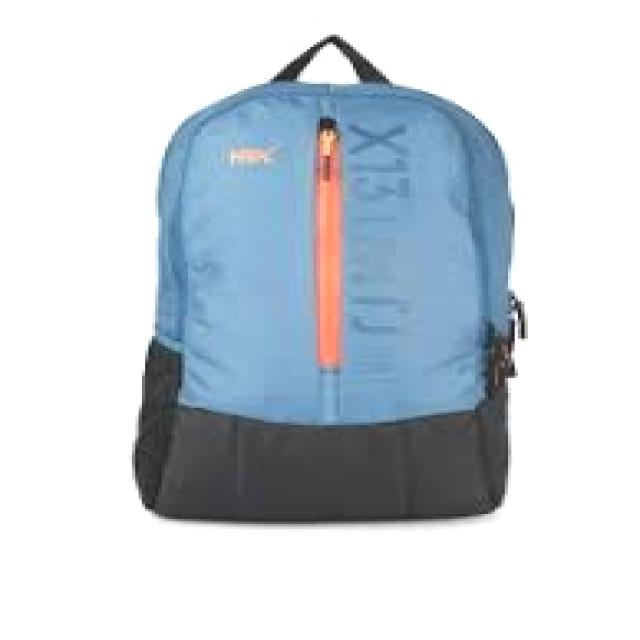backpack: (130, 33, 529, 523)
